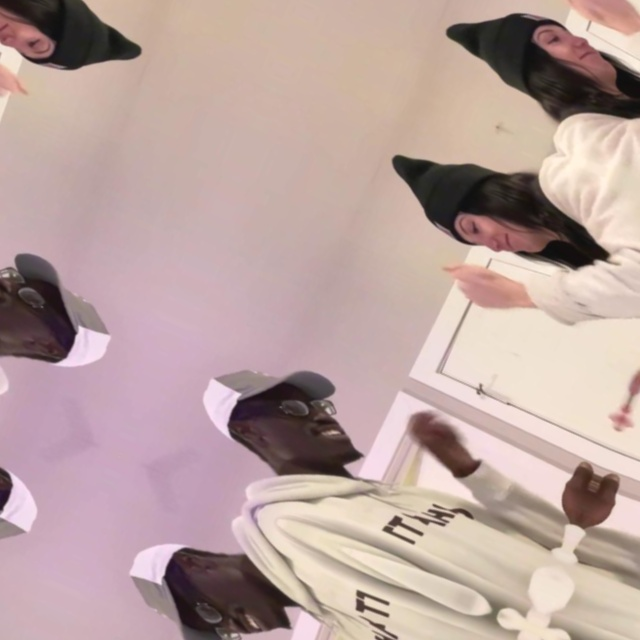Rock: (434, 252, 533, 324), (0, 42, 34, 114)
